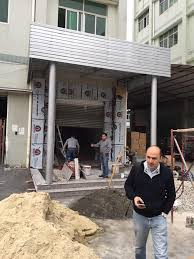noepi: (126, 143, 178, 259), (90, 131, 112, 179), (61, 132, 79, 159)
